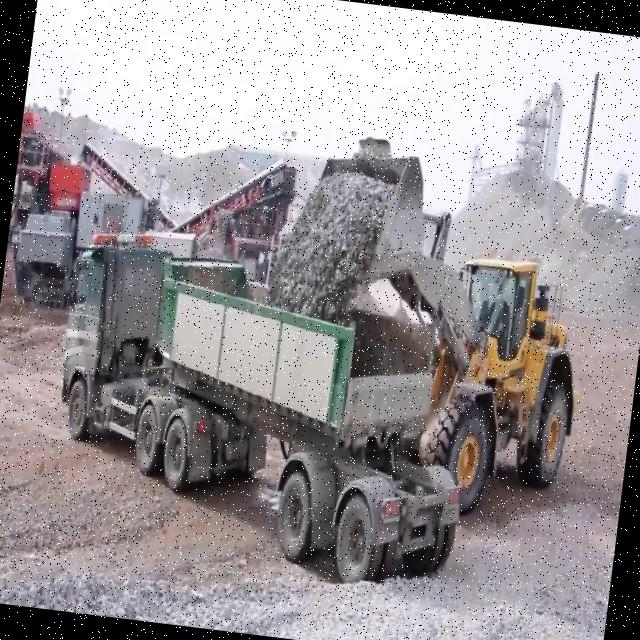Dump Truck: (35, 224, 490, 595)
Loader: (280, 125, 608, 527)
